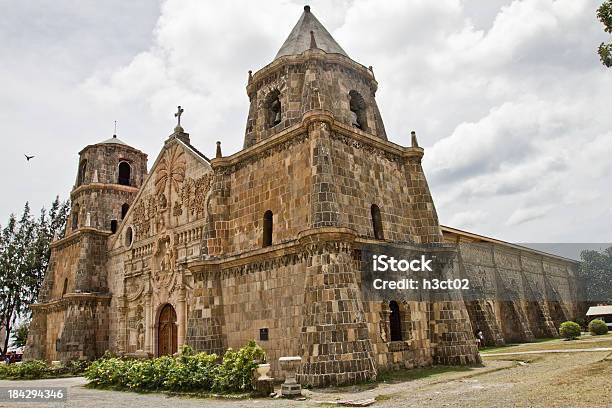miagao_church_miagao_iloilo: (26, 3, 440, 389)
